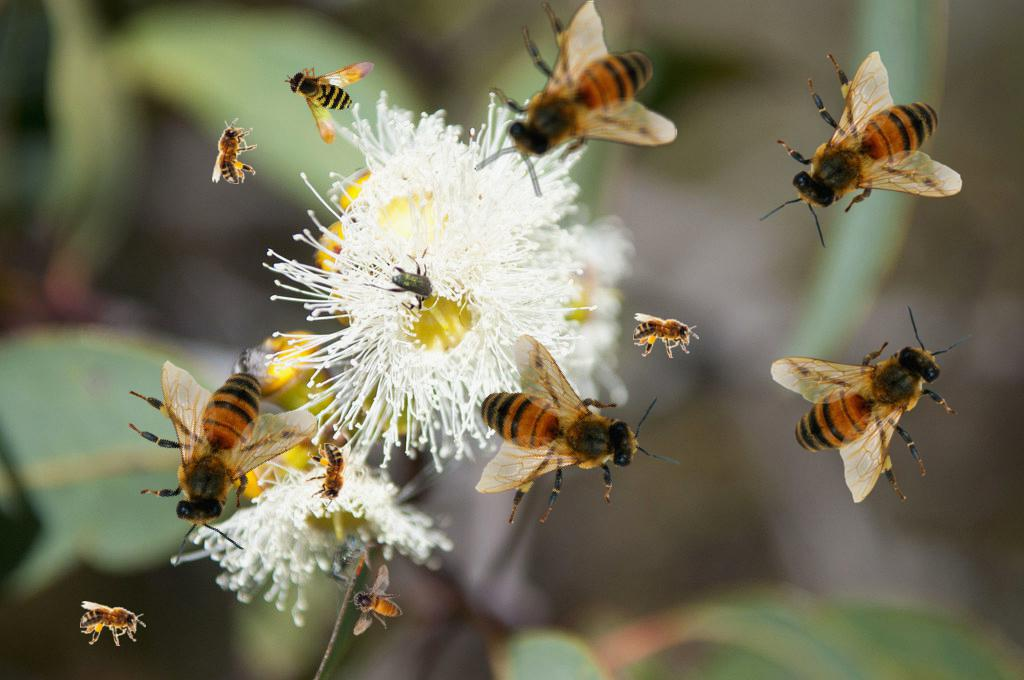Bee: (418, 292, 703, 578), (72, 309, 355, 591), (474, 0, 678, 199), (759, 51, 963, 250), (770, 304, 974, 503), (281, 36, 399, 150), (332, 562, 418, 649), (633, 313, 699, 358), (80, 601, 146, 646), (212, 118, 257, 184), (306, 443, 351, 509)
